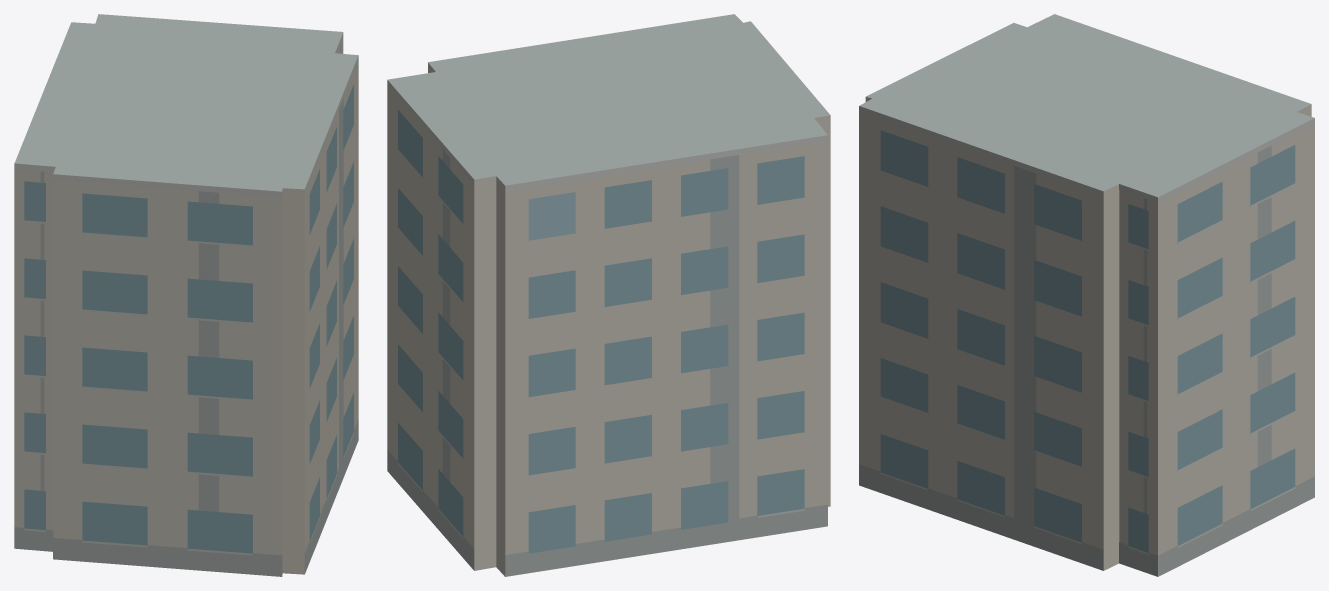
The model's file is survey-upis-32893367.glb.
3 views of the same model, side by side, from view 1: azimuth 30°, elevation 25°; view 2: azimuth 150°, elevation 25°; view 3: azimuth 270°, elevation 25° (orthographic). The views are drawn at different scales.
Visible parts, largest first — view 1: survey-upis-32893367.tmp; view 2: survey-upis-32893367.tmp; view 3: survey-upis-32893367.tmp.
Boxes of the visible parts, x1,y1,x2,y2 form: survey-upis-32893367.tmp: (14,14,358,576); survey-upis-32893367.tmp: (387,14,830,576); survey-upis-32893367.tmp: (859,14,1314,576).
Size of the model in its own units: 16.79 by 16.2 by 17.64.
